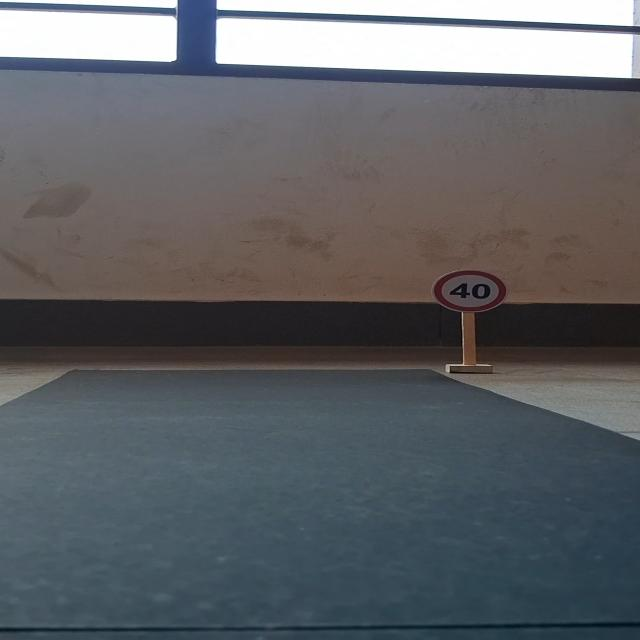Speed40: (427, 266, 512, 314)
